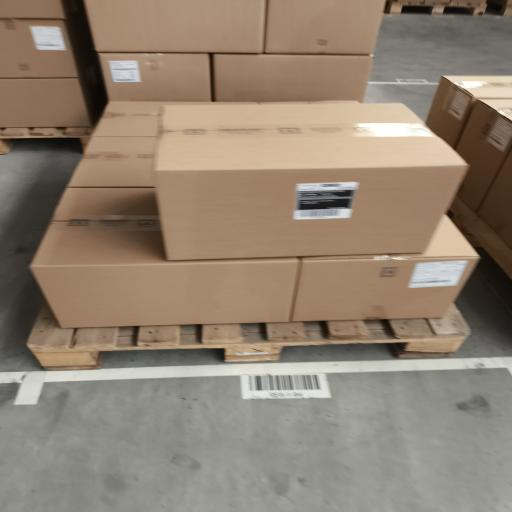pallet: (28, 305, 469, 369), (451, 197, 511, 278), (0, 128, 91, 154)
